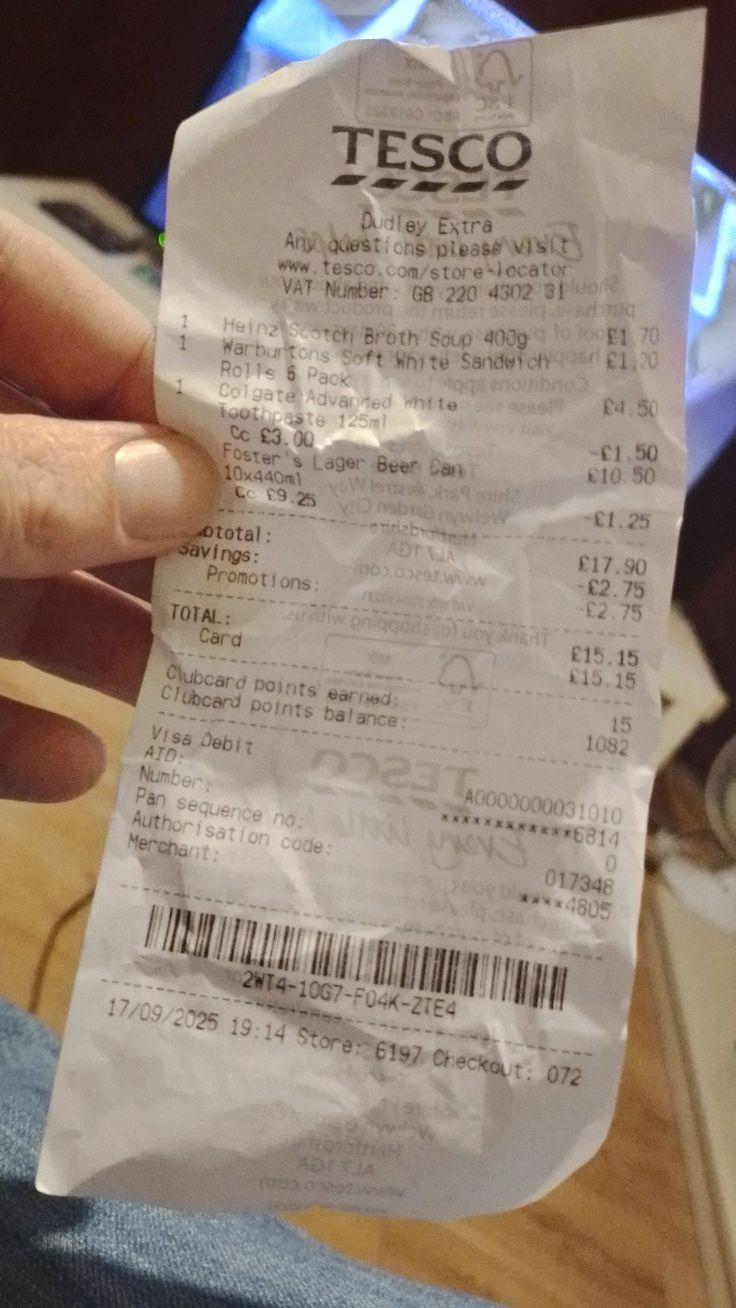receipt-in-hand: (39, 12, 702, 1216)
